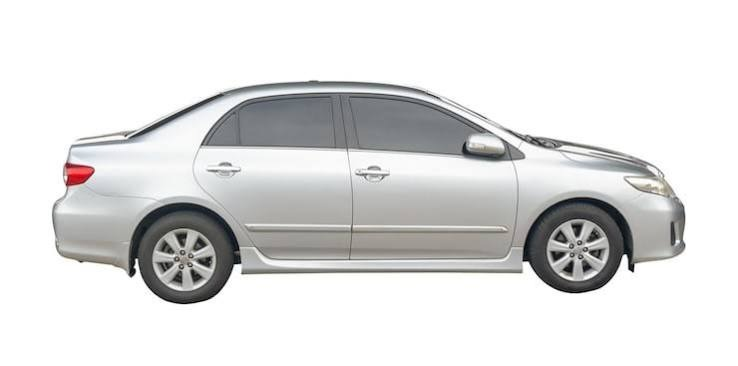car: (62, 81, 681, 306)
